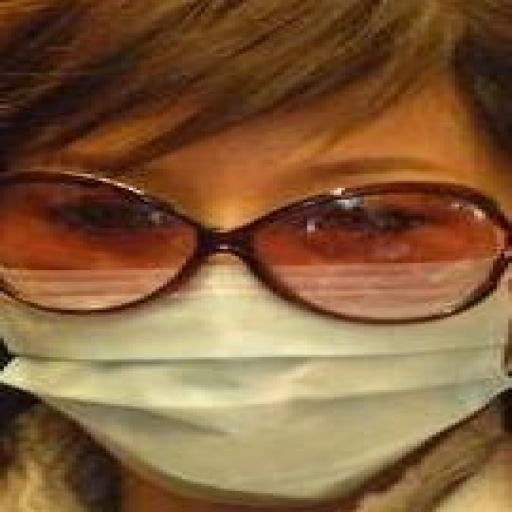mask: (4, 33, 512, 512)
